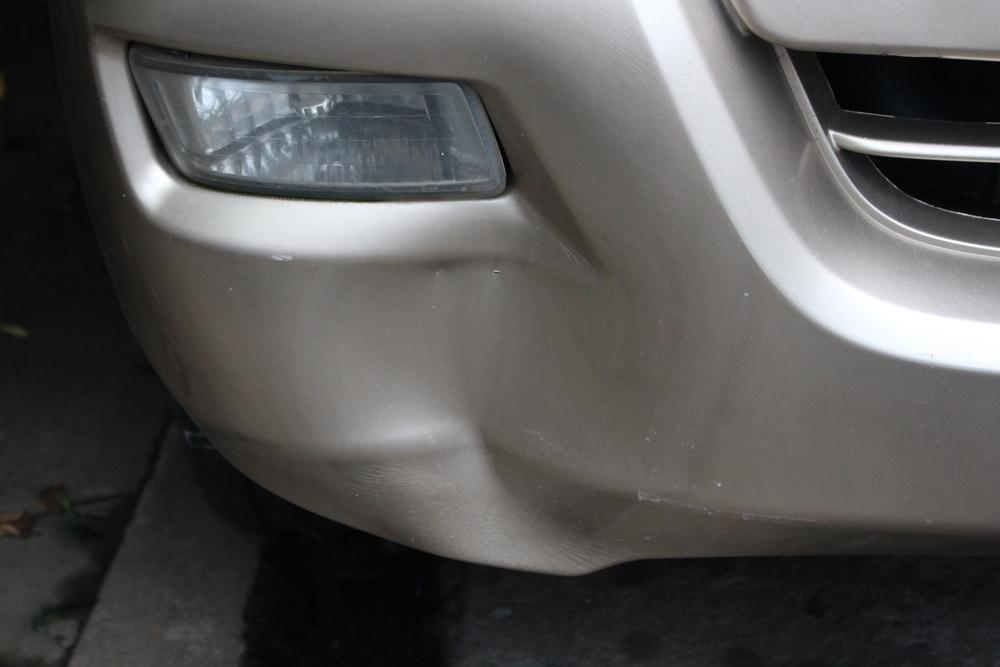dent: (305, 217, 662, 574)
